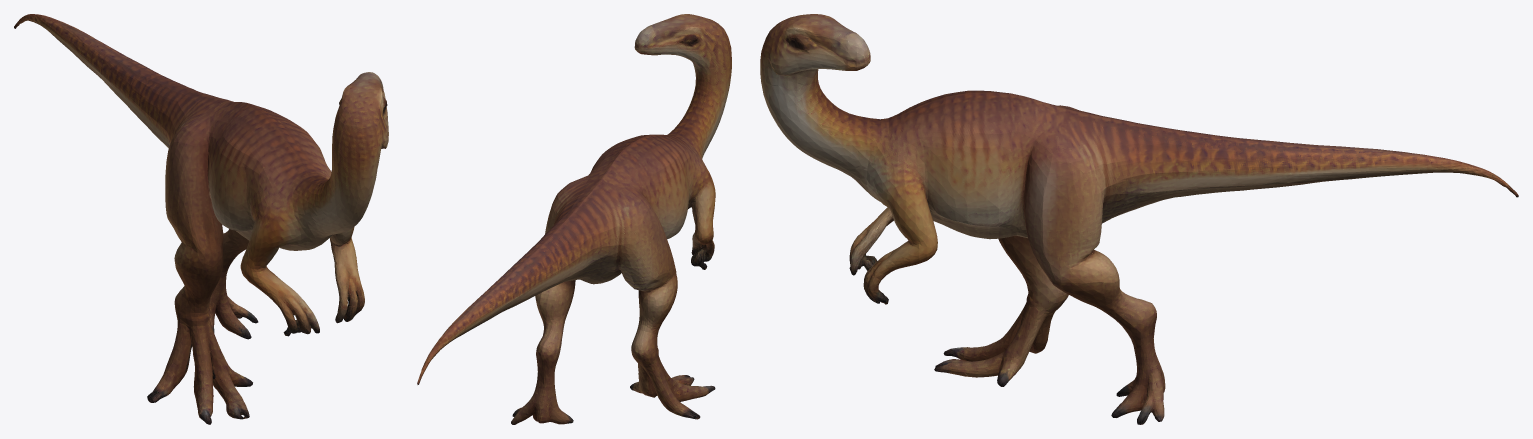
3 renders of one model, left to right at view 1: azimuth 30°, elevation 25°; view 2: azimuth 150°, elevation 25°; view 3: azimuth 270°, elevation 25°, orthographic. The views are drawn at different scales.
Parts seen in each view (by area): view 1: world; view 2: world; view 3: world.
Boxes of the visible parts, x1,y1,x2,y2 form: world: [14, 14, 388, 424]; world: [417, 14, 731, 424]; world: [760, 14, 1518, 424].
Bounding box in the file's own units: 0.2631 × 0.5605 × 1.
1 material, 1 textured.
